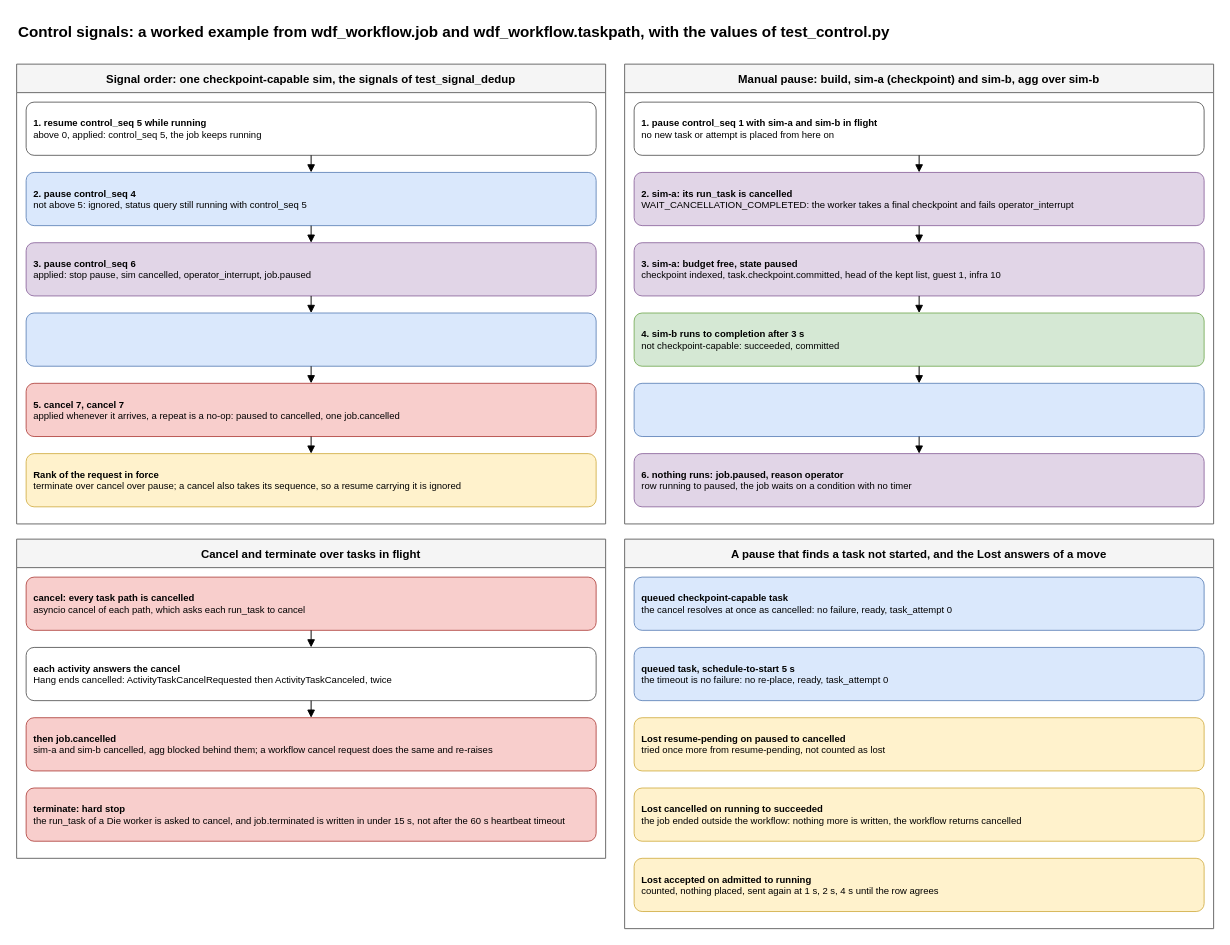
Image size: 1230x945. Some labels were removed from this diagram. Each missing label, with the centre of its shape:
"4. pause control_seq 6 again not above 6: ignored, one job.paused in the history" belongs at (x=310, y=339).
"5. agg ready, task_attempt 0 its input is done, but a pause places nothing" belongs at (x=918, y=409).
